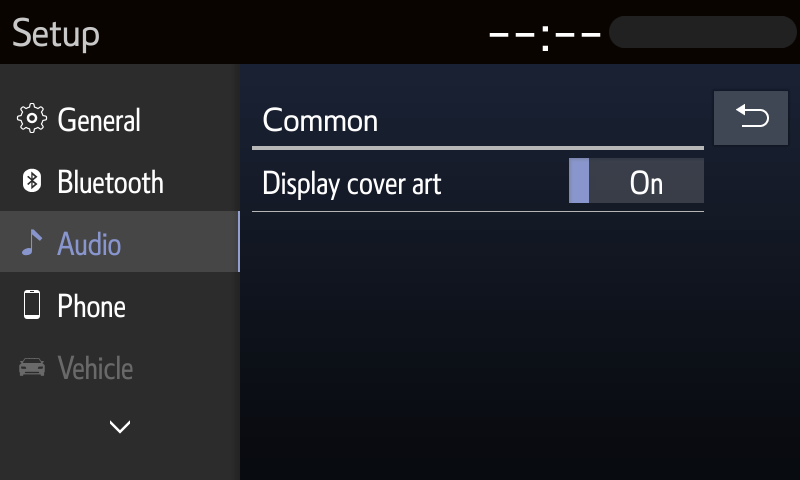touchPart: (251, 140, 708, 219), (7, 160, 162, 200), (13, 93, 148, 137), (711, 85, 790, 149), (16, 284, 135, 326), (98, 413, 140, 441)
untouchPart: (3, 211, 242, 275), (488, 11, 797, 57), (10, 343, 142, 389), (8, 17, 103, 55)
